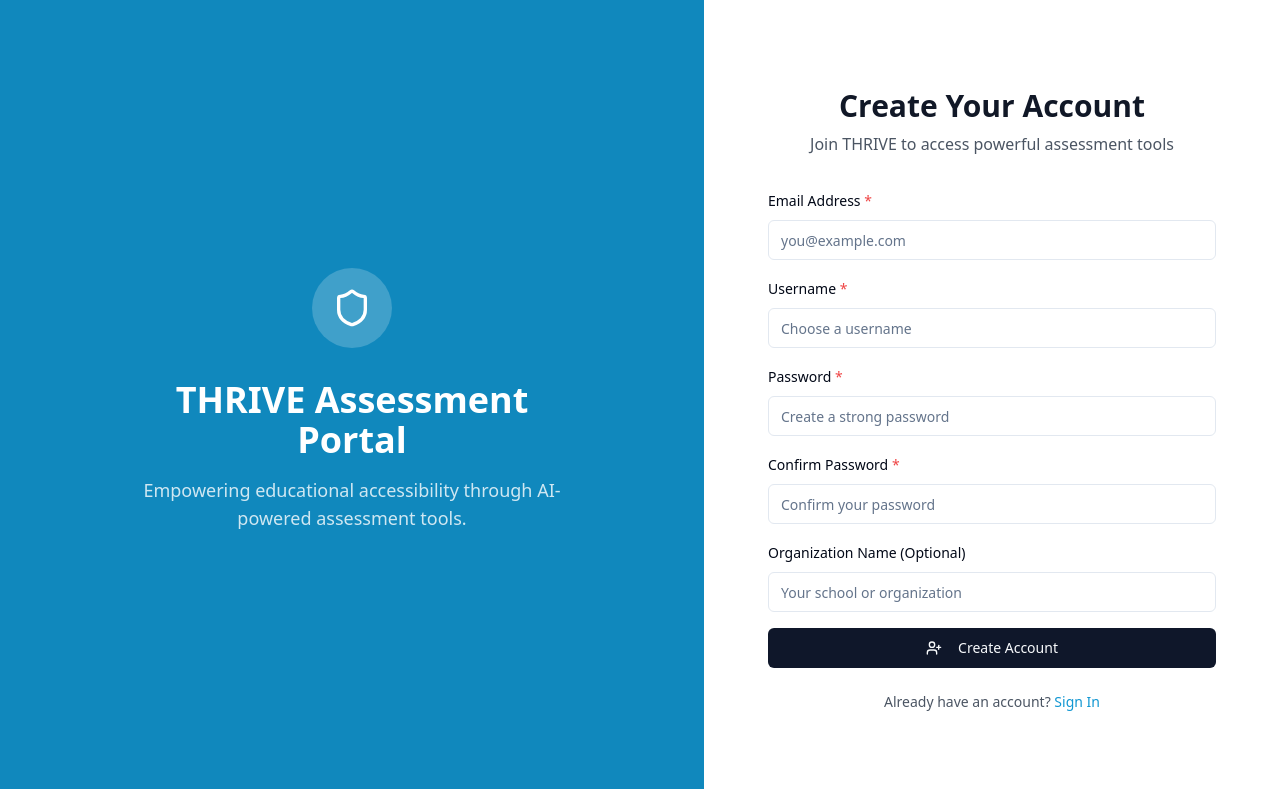
Scenario: Registration Components › RegistrationPage › handles registration API error
The image size is (1280, 789).
In the field with test id "input-email": {"x": 992, "y": 240} [768,220,1216,260], type "test@example.com"
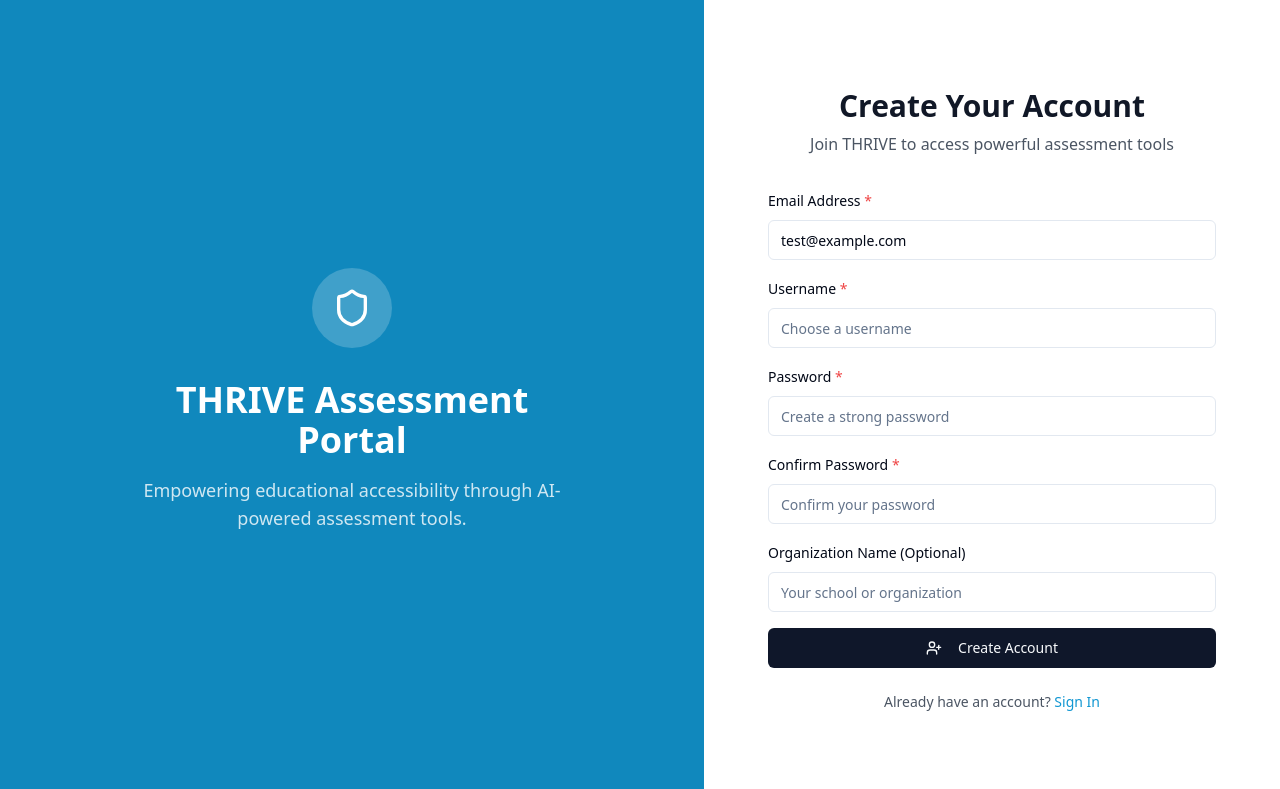
In the field with test id "input-username": {"x": 992, "y": 328} [768,308,1216,348], type "testuser"
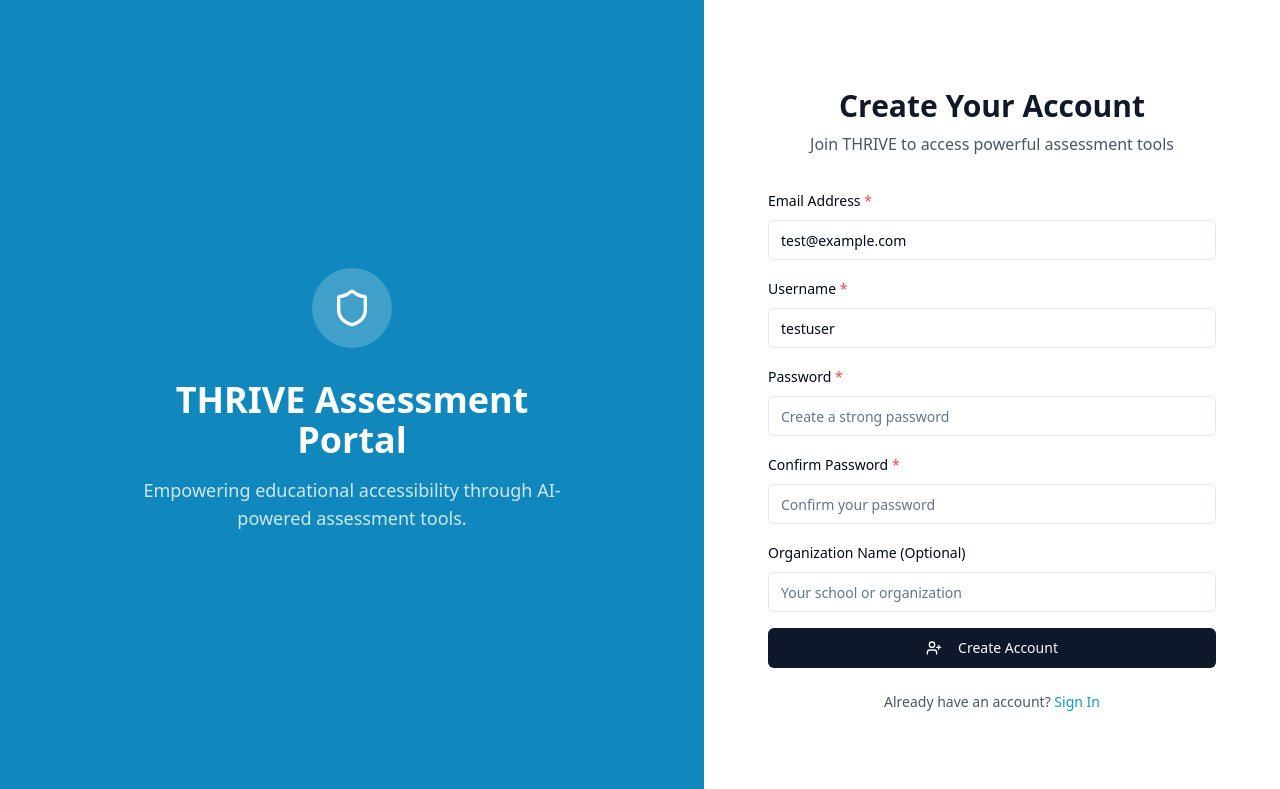
In the password field with test id "input-password": {"x": 992, "y": 416} [768,396,1216,436], type "Test123!@#"
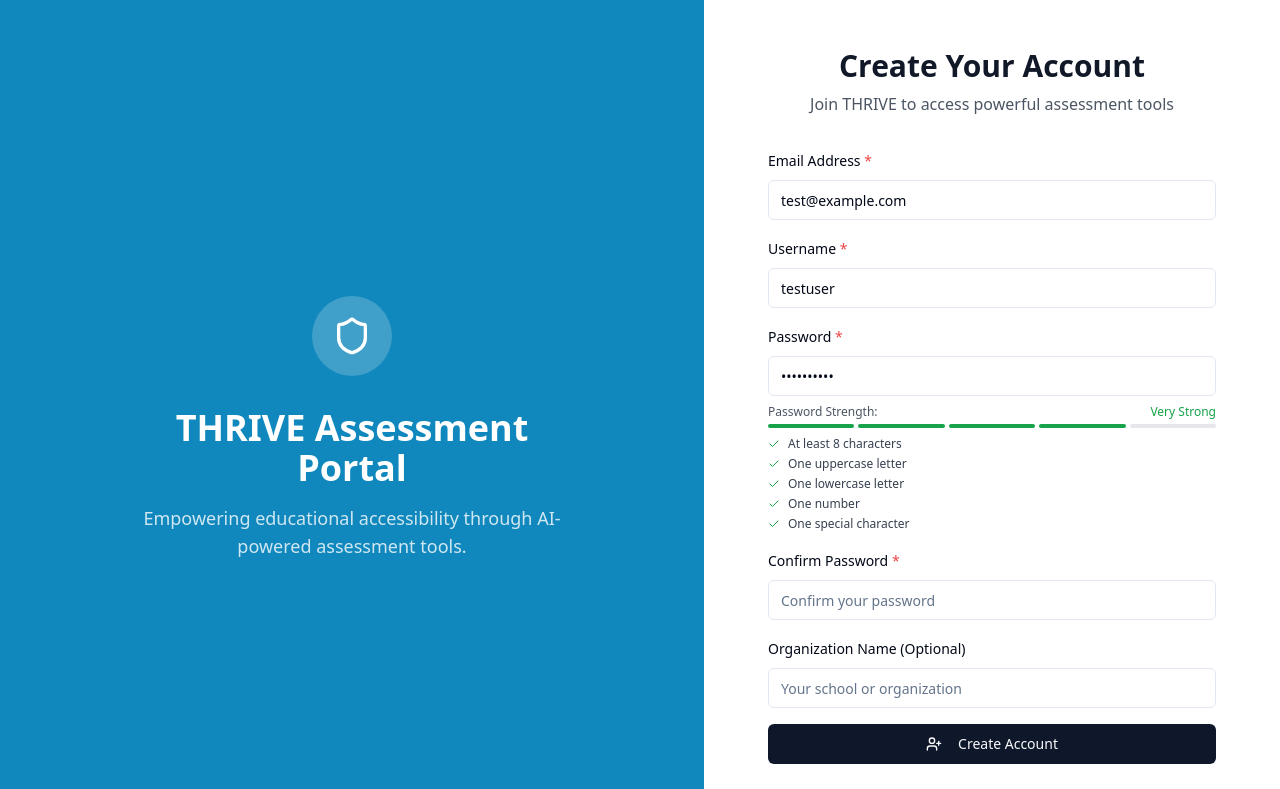
In the password field with test id "input-confirm-password": {"x": 992, "y": 600} [768,580,1216,620], type "Test123!@#"
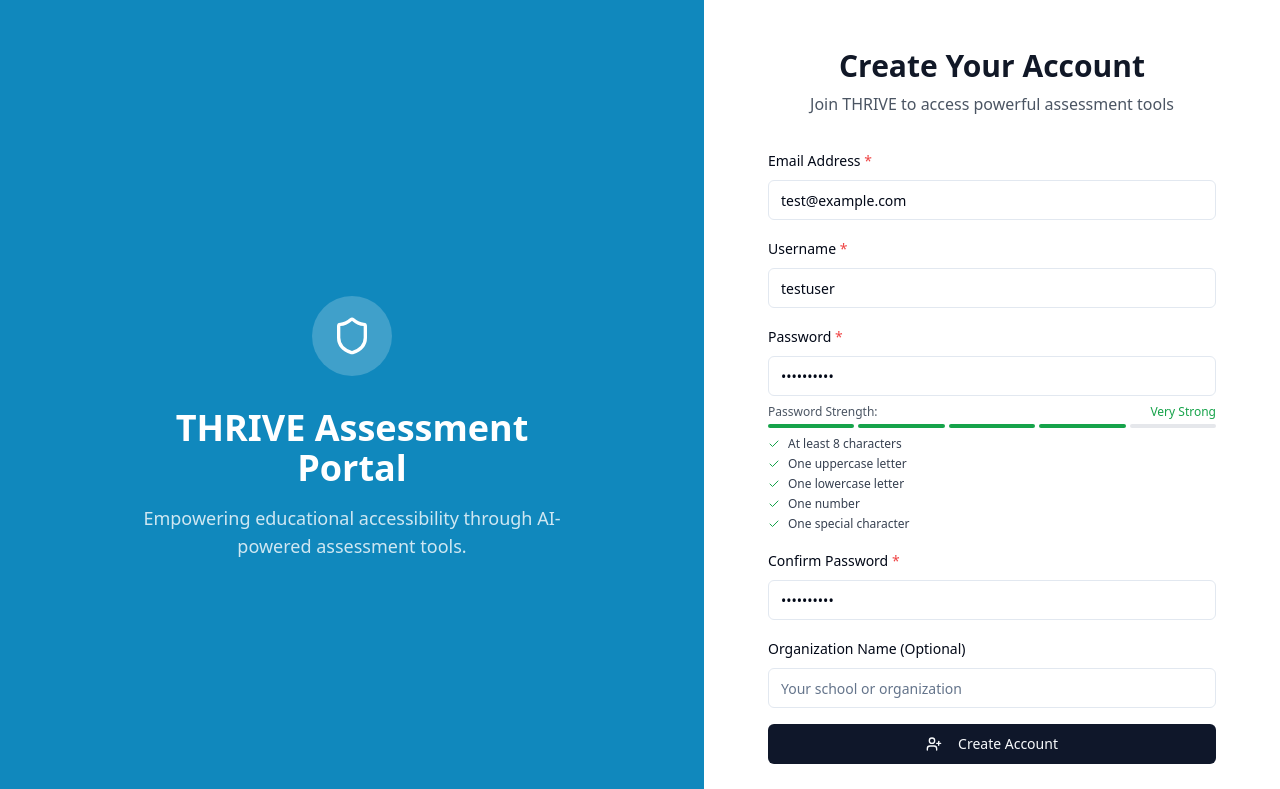
Click the button with test id "button-create-account": {"x": 992, "y": 744} [768,724,1216,764]
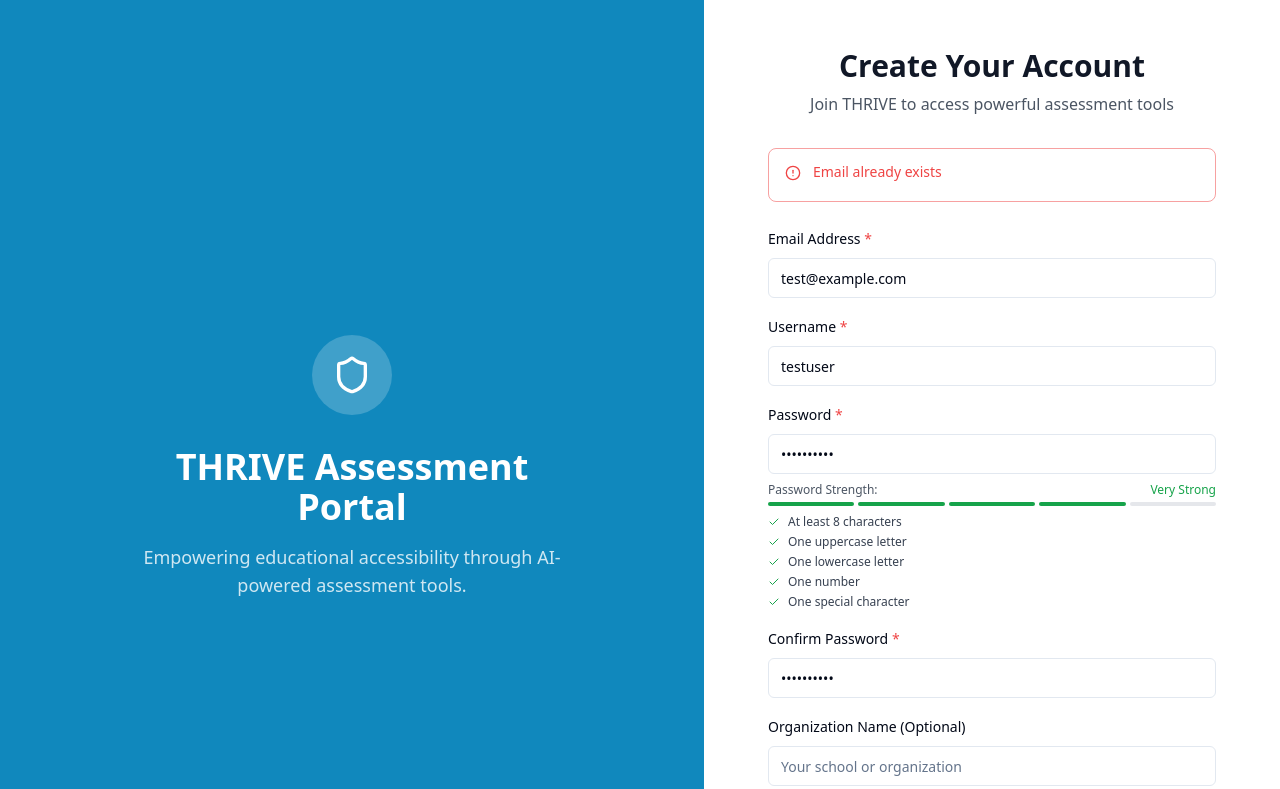
Expected: the text "Email already exists" is shown, [813,162,942,181]
